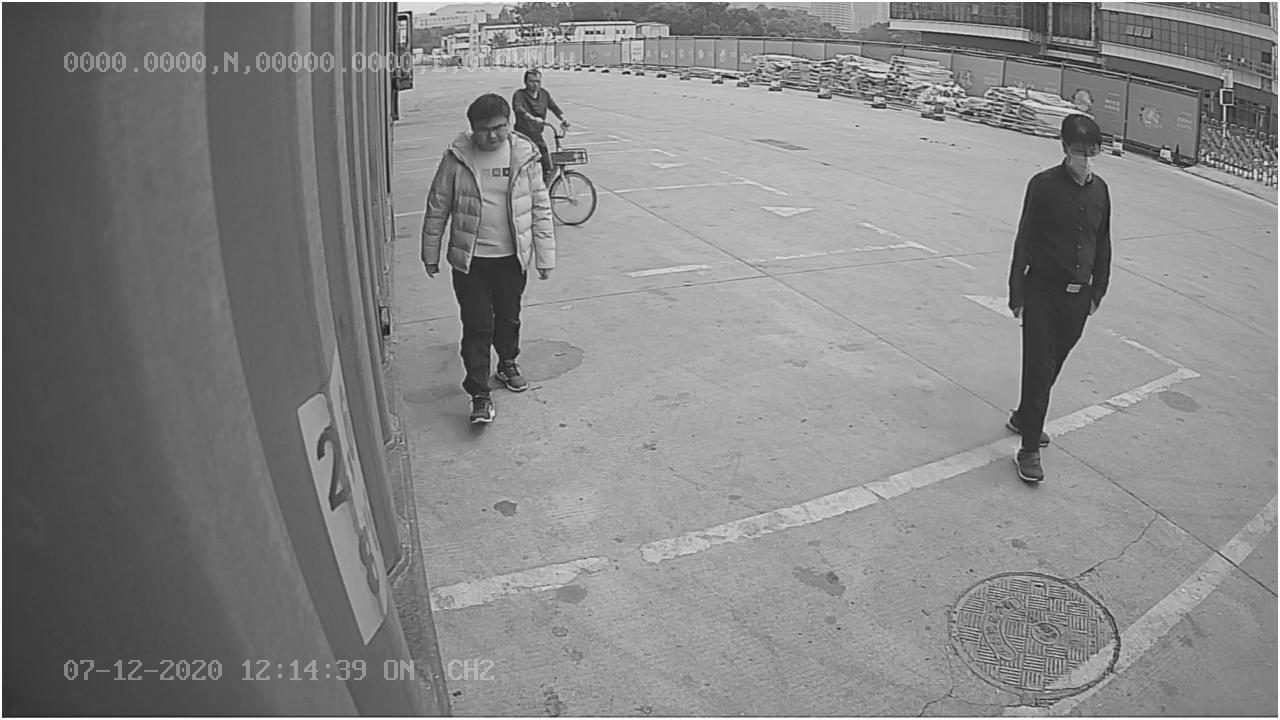person: (1007, 103, 1116, 490)
